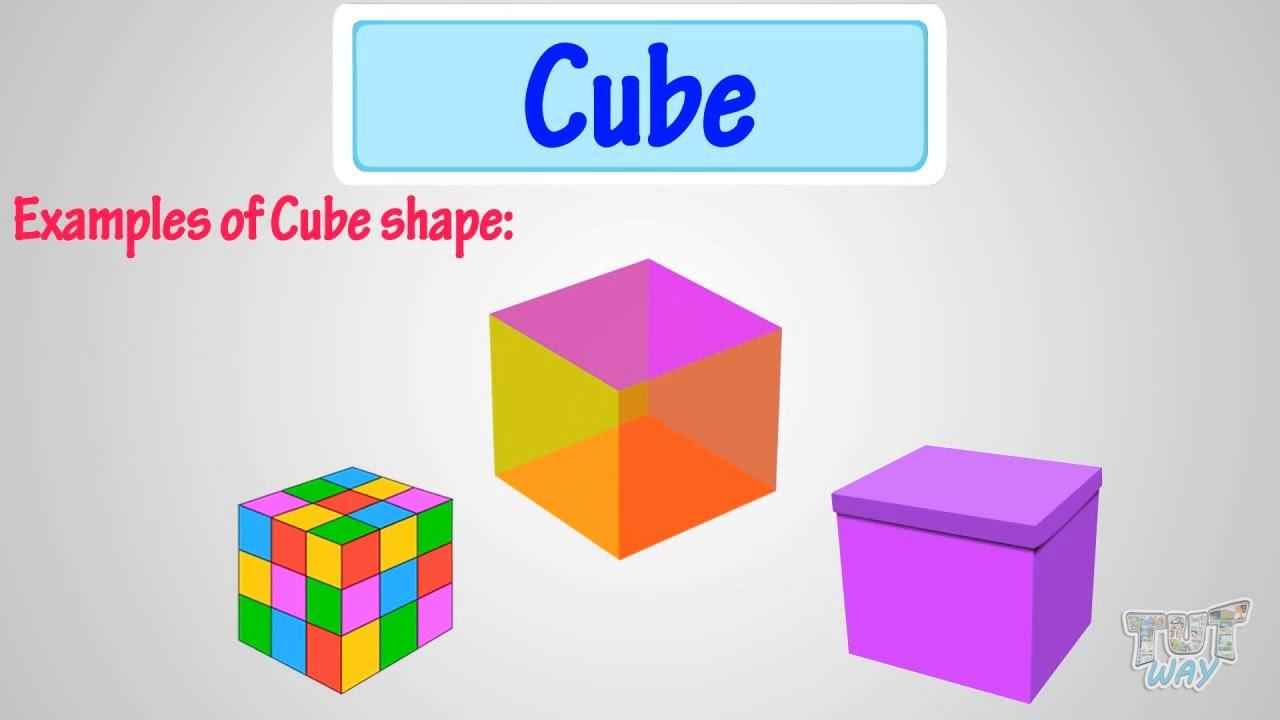cube: (488, 260, 784, 559), (831, 446, 1100, 703), (234, 468, 457, 692)
